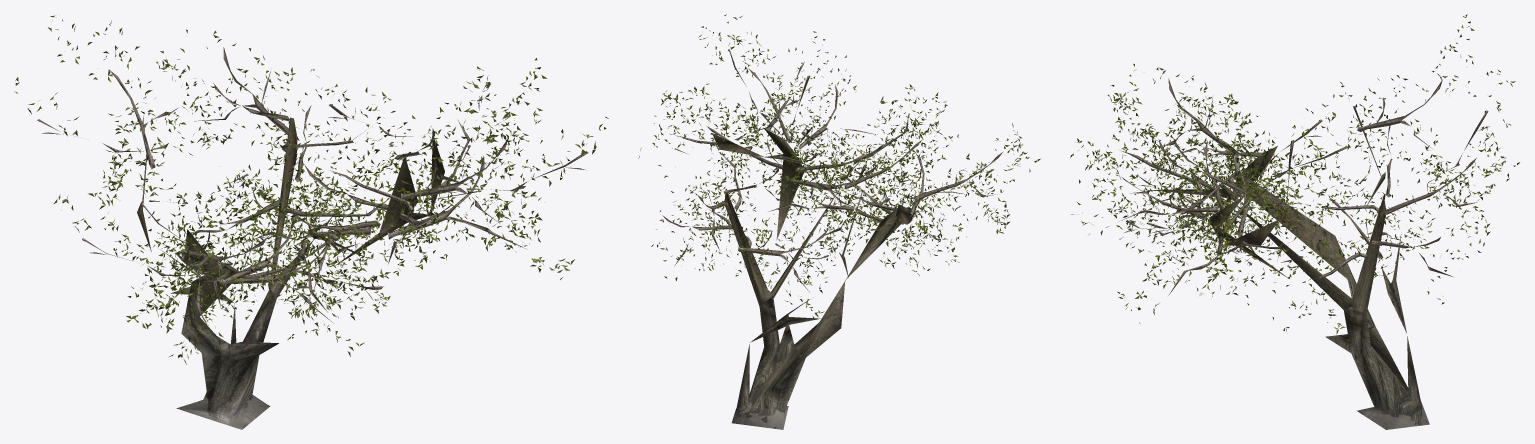
File: island_tree_02.glb
The picture shows the model from 3 angles, left to right: view 1: azimuth 30°, elevation 25°; view 2: azimuth 150°, elevation 25°; view 3: azimuth 270°, elevation 25°; orthographic projection. The views are drawn at different scales.
Visible parts, largest first — view 1: island_tree_02_LOD0; view 2: island_tree_02_LOD0; view 3: island_tree_02_LOD0.
Boxes of the visible parts, x1=… form: island_tree_02_LOD0: x1=14, y1=15, x2=608, y2=429; island_tree_02_LOD0: x1=638, y1=14, x2=1040, y2=429; island_tree_02_LOD0: x1=1070, y1=14, x2=1519, y2=429.
Size of the model in its own units: 3.77 by 3.4 by 4.03.
3 materials, 3 textured.
